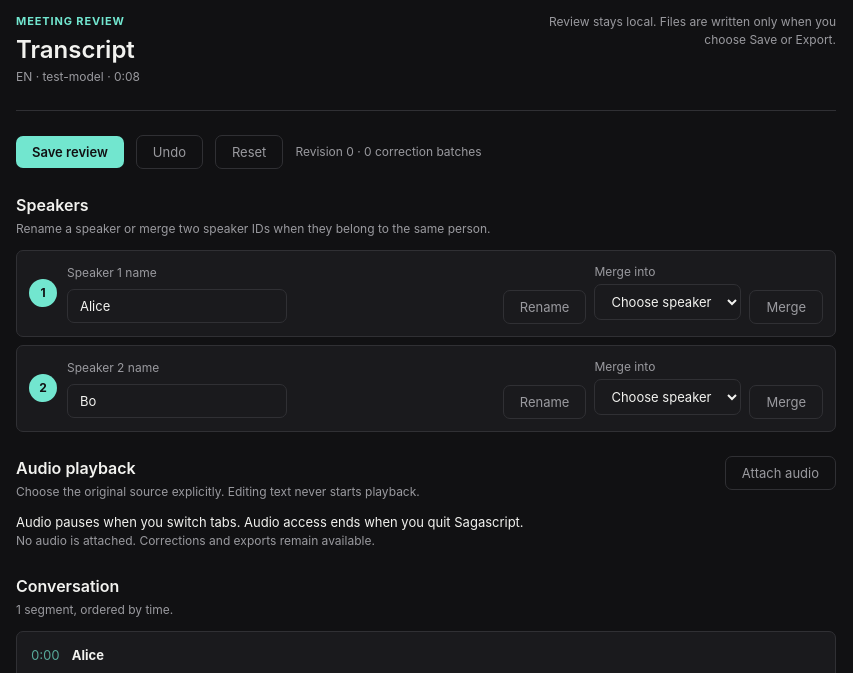
Test: clearing a merge selection leaves it unapplied
This screenshot has width=853, height=673.
Select "Bo" in the dropdown named "Merge Alice into". click: (668, 302)
box: [594,284,741,320]
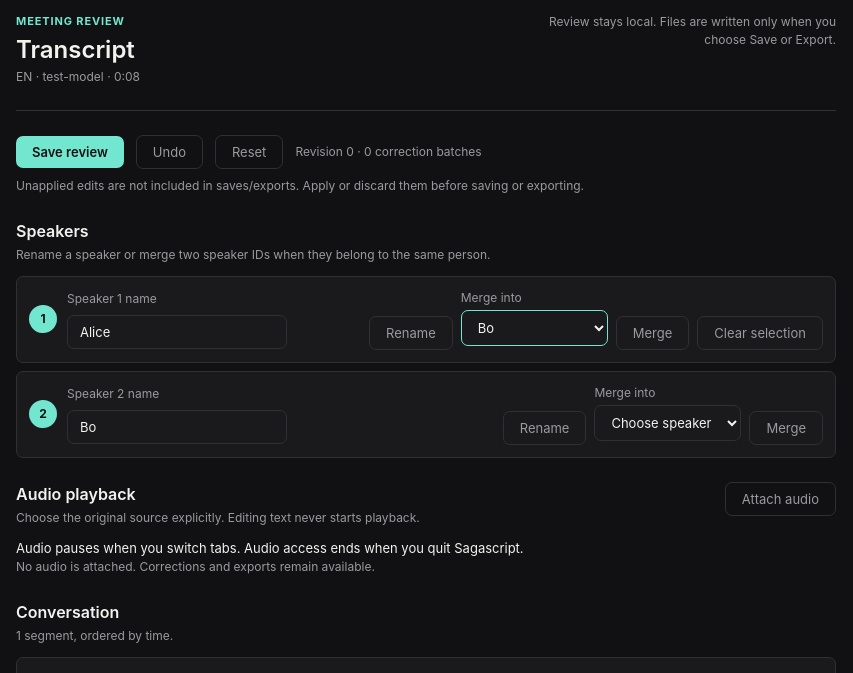
Expected: the 1st button "Merge" is enabled, [616,316,689,350]
Click the button with aria-label "Clear merge selection for Alice". click: (760, 332)
box: [697,316,823,350]
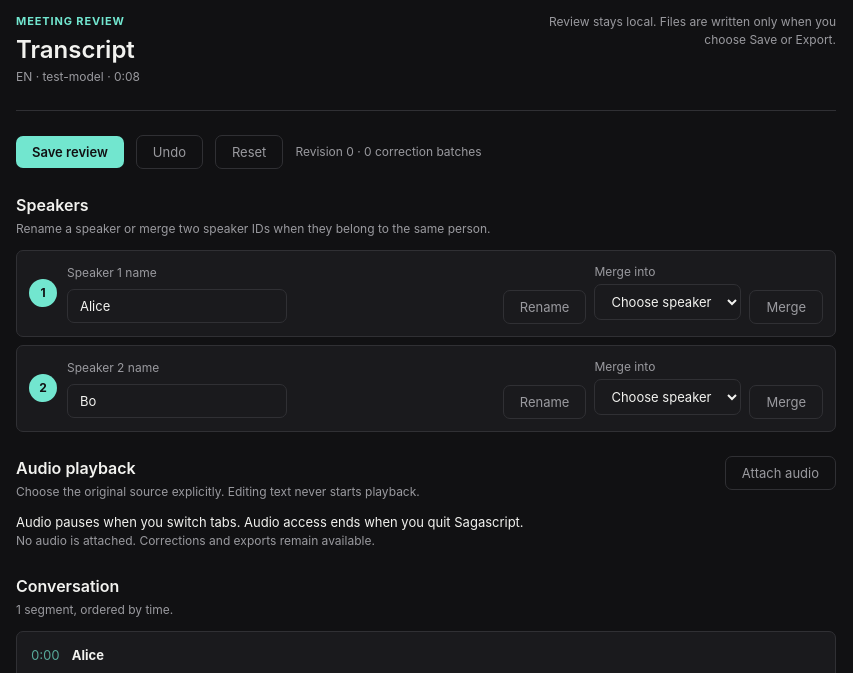
Expected: the 1st button "Merge" is disabled, [749,290,823,324]
